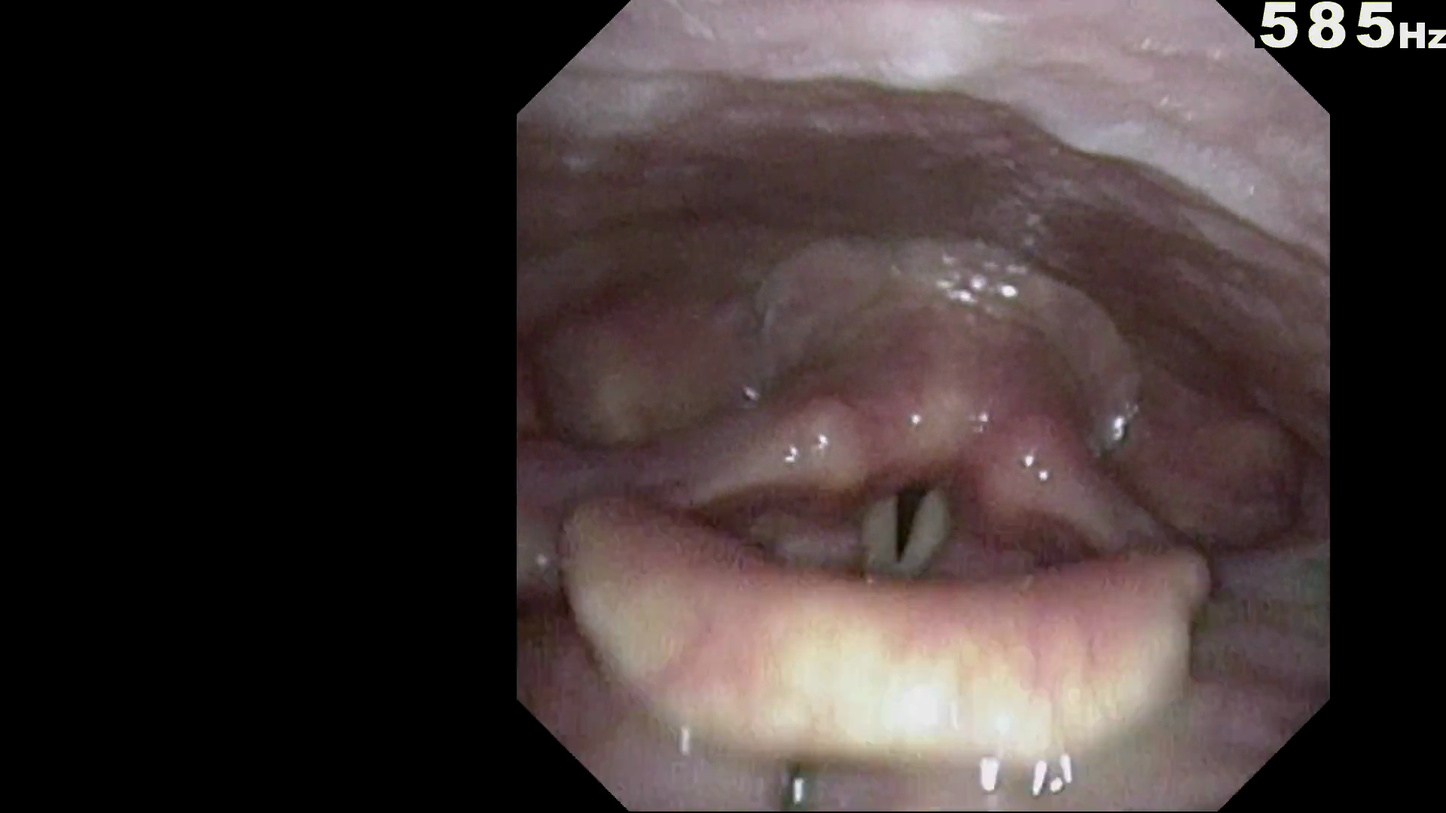epiglottis: (604, 540, 1227, 785)
trachea: (859, 471, 964, 602)
